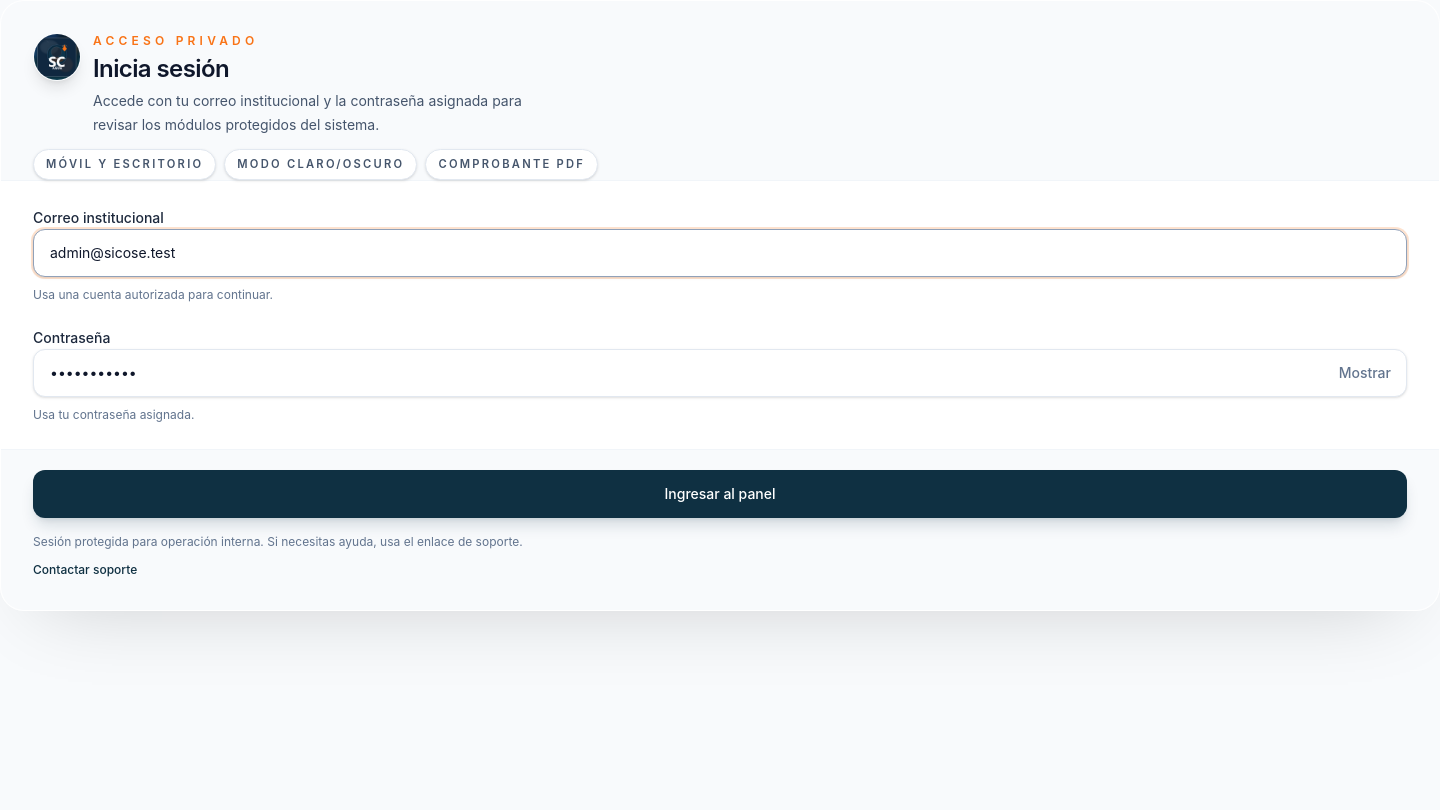
LoginForm › shows a public error when access is rejected
The width and height of the screenshot is (1440, 810).
Click the button "Ingresar al panel": (720, 494) [33, 470, 1407, 518]
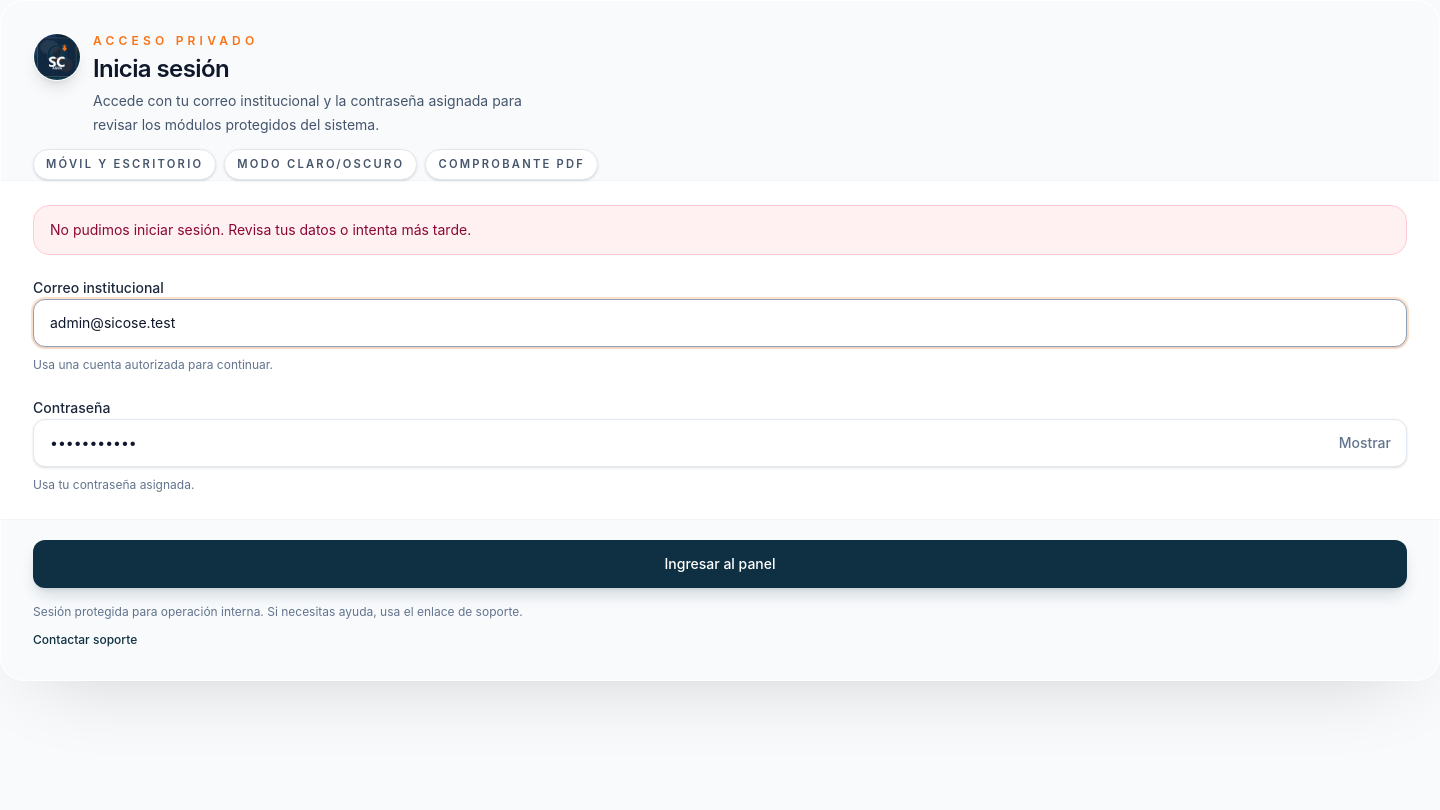
Result: the message reads "No pudimos iniciar sesión. Revisa tus datos o intenta más tarde." at [50, 221, 471, 238]
